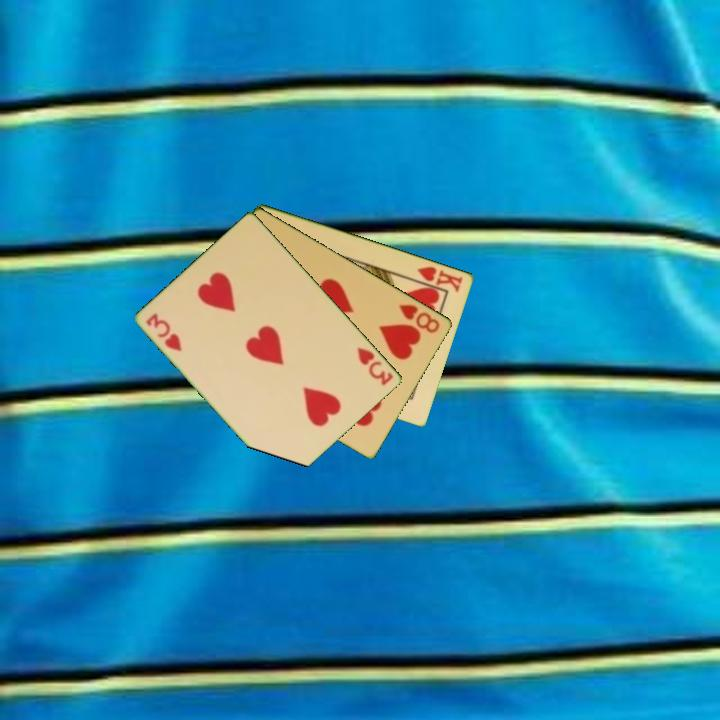3h: (354, 343, 396, 388), (143, 309, 185, 354)
8h: (395, 300, 443, 336)
Kh: (409, 262, 466, 295)
